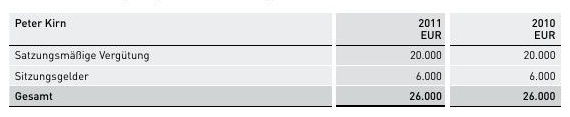table: (0, 0, 570, 117)
